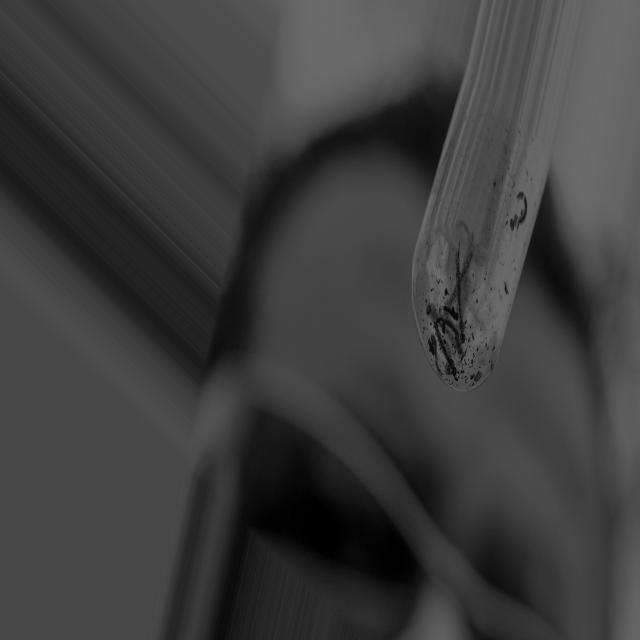larvas: (432, 322, 459, 377), (457, 248, 466, 343), (511, 190, 527, 228), (428, 334, 442, 375), (439, 315, 460, 340), (461, 244, 474, 279), (459, 216, 474, 238), (443, 303, 458, 319), (427, 301, 437, 318)
